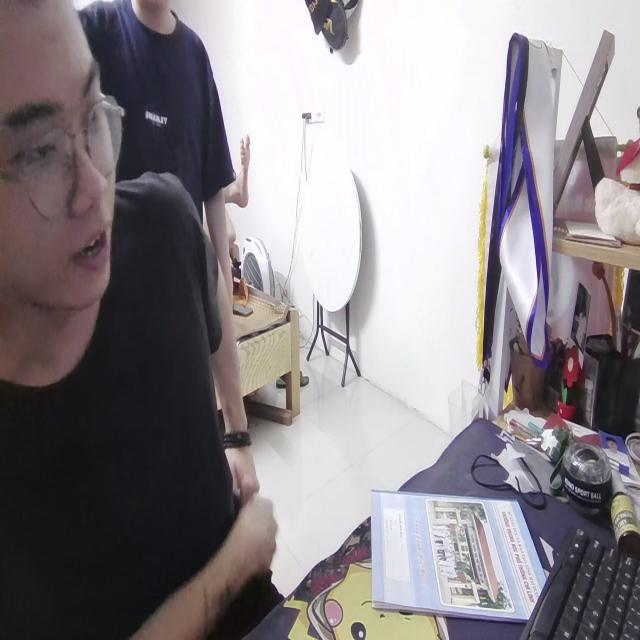book: (368, 477, 548, 631)
extra_person: (85, 0, 240, 316)
student: (0, 0, 284, 640)
